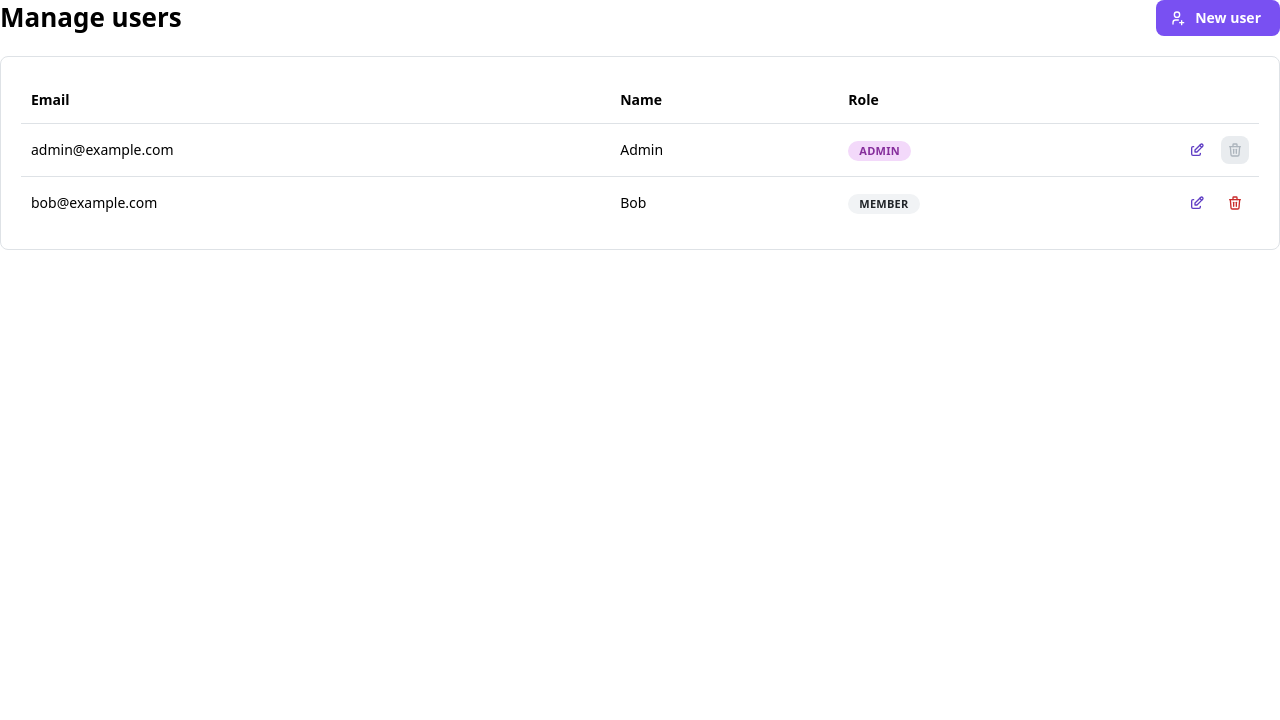
it: UsersPage › shows a form error when saving fails
The image size is (1280, 720).
Expected: the text "bob@example.com" is shown, [21,176,610,229]
Click the button "New user" at (1218, 18), box [1156,0,1279,36]
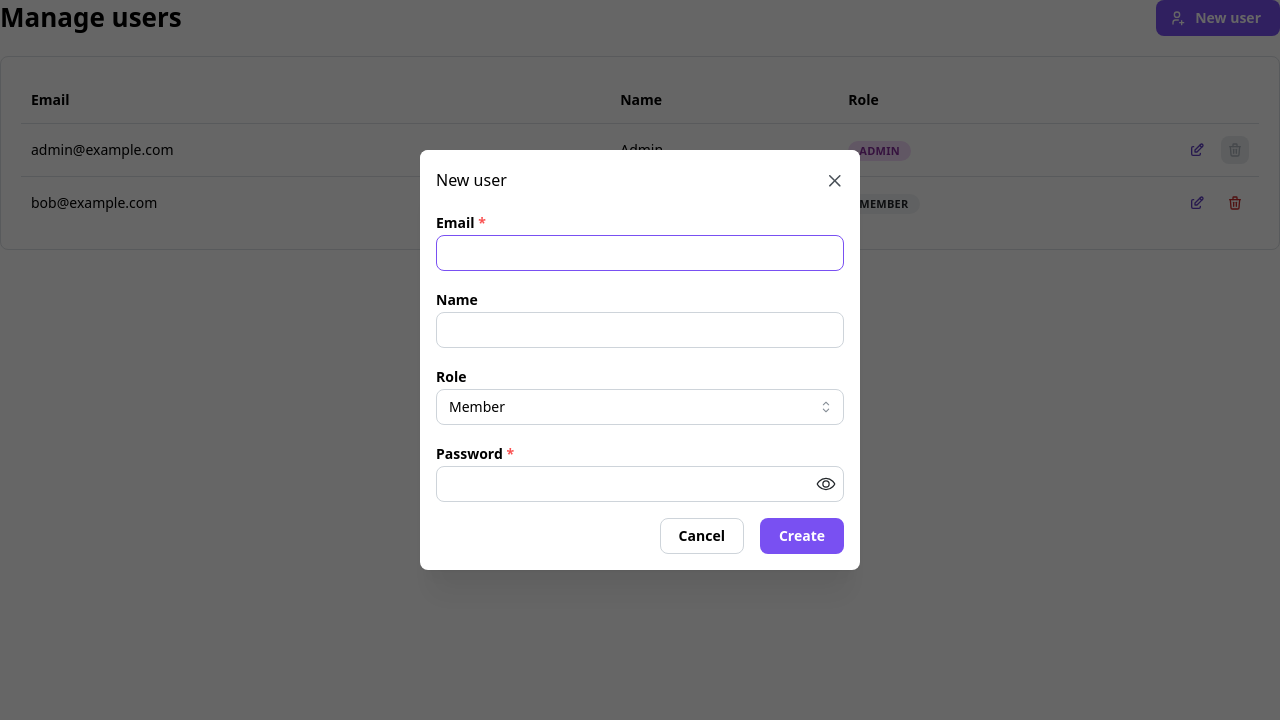
Type "dupe@example.com" into the field labelled "Email *" at (640, 253), box [436,235,844,271]
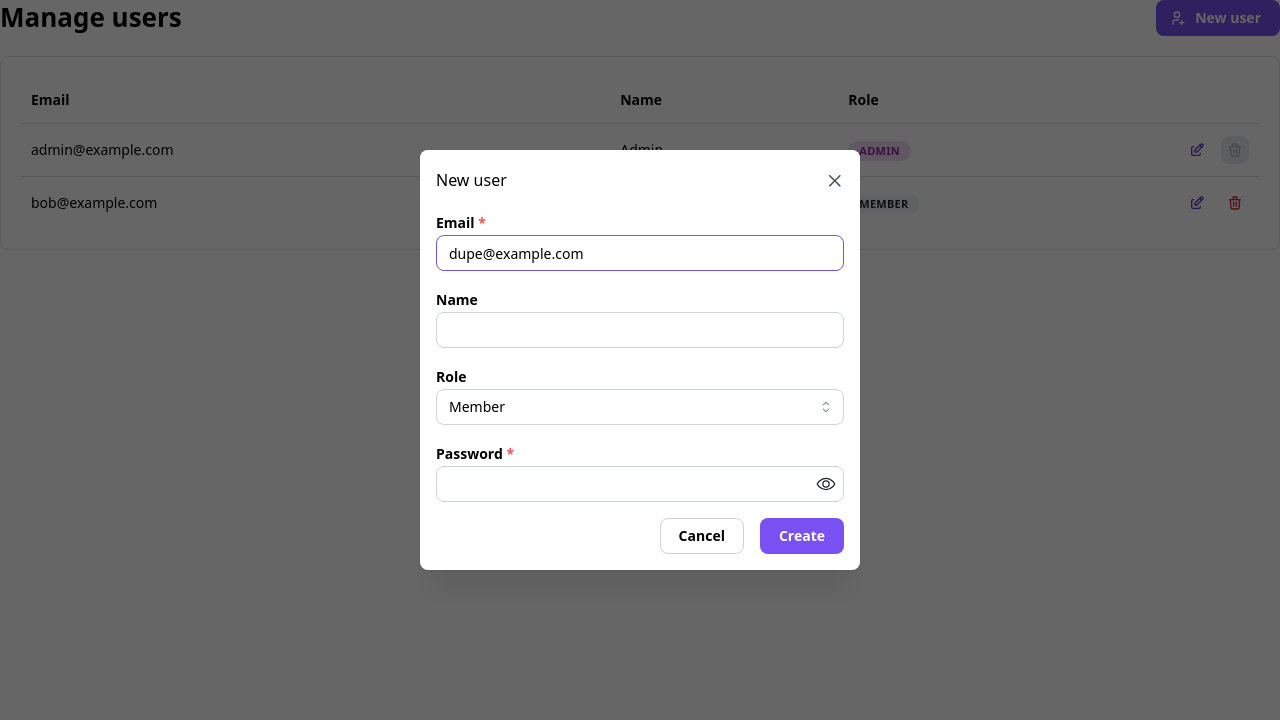
Type "password123" into the password field labelled "Password *" at (640, 484), box [437,467,843,501]
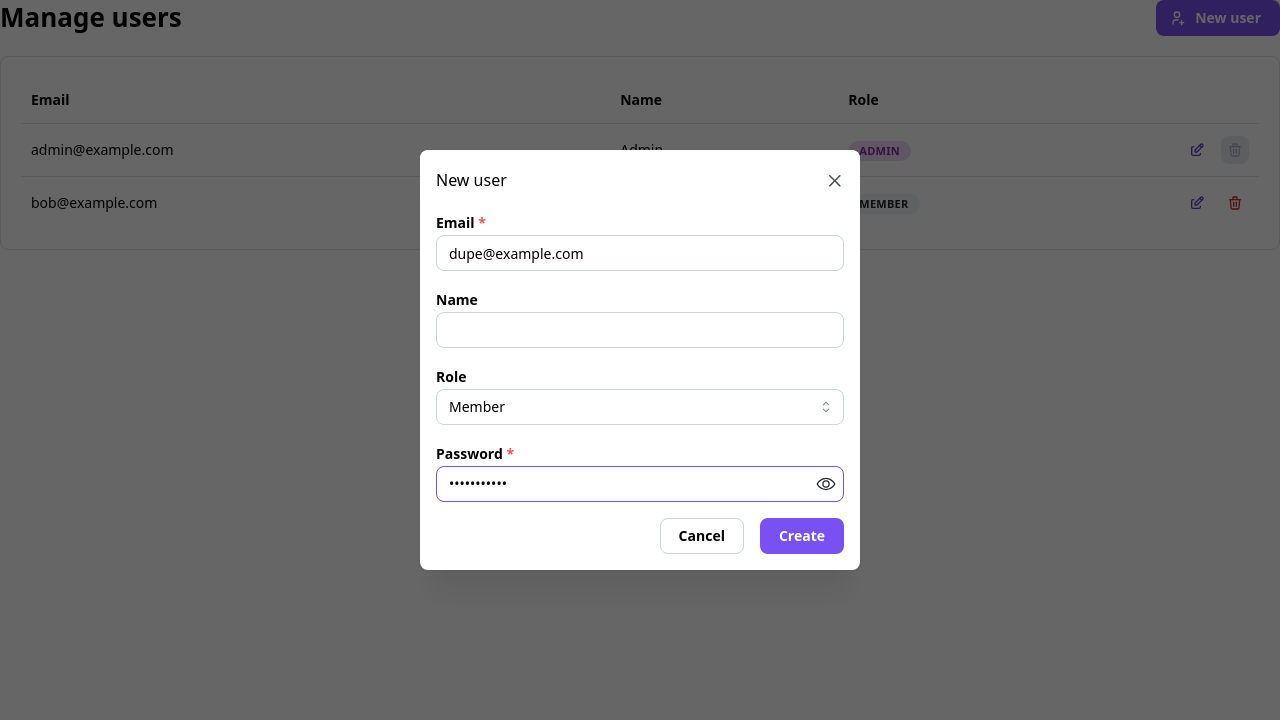
Click the button "Create" at (802, 536), box [760,518,844,554]
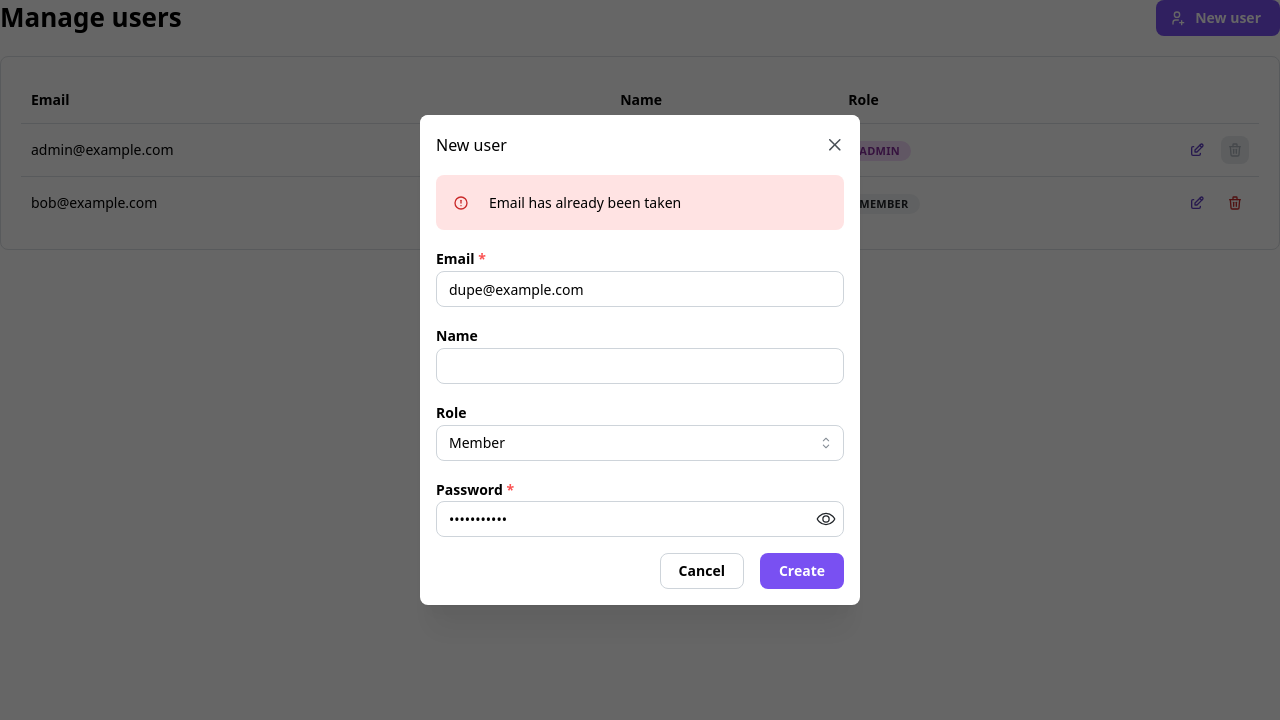
Expected: the text "Email has already been taken" is shown, [489,193,681,212]
